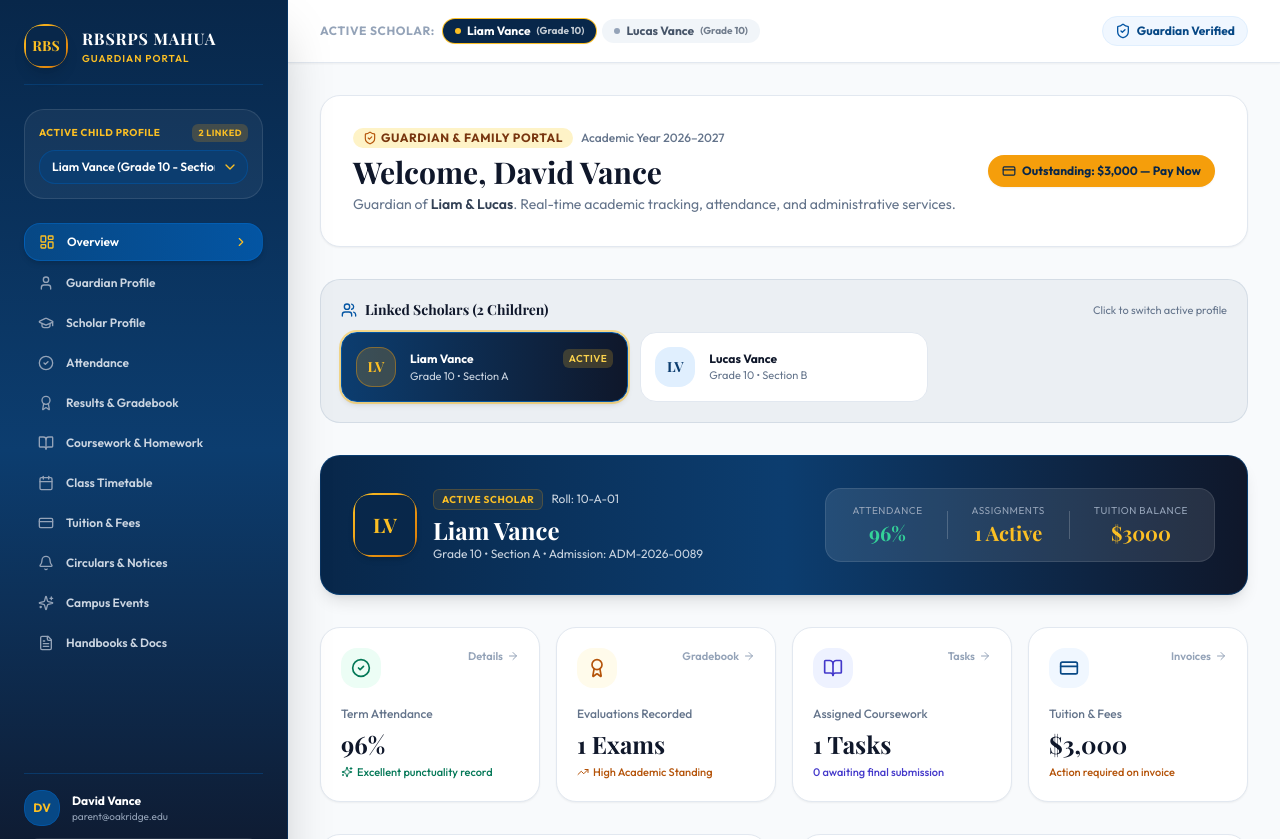
Scenario: Phase 13 — Parent Portal Frontend Test Suite › allows switching between multiple children and updates the active scholar profile
Expected: the heading with test id "selected-child-name" reads "Liam Vance", [433,514,560,546]
// Switch to second child Lucas Vance
Click the button with test id "top-child-pill-stud-003" at x=681, y=31, box [602,19,760,43]
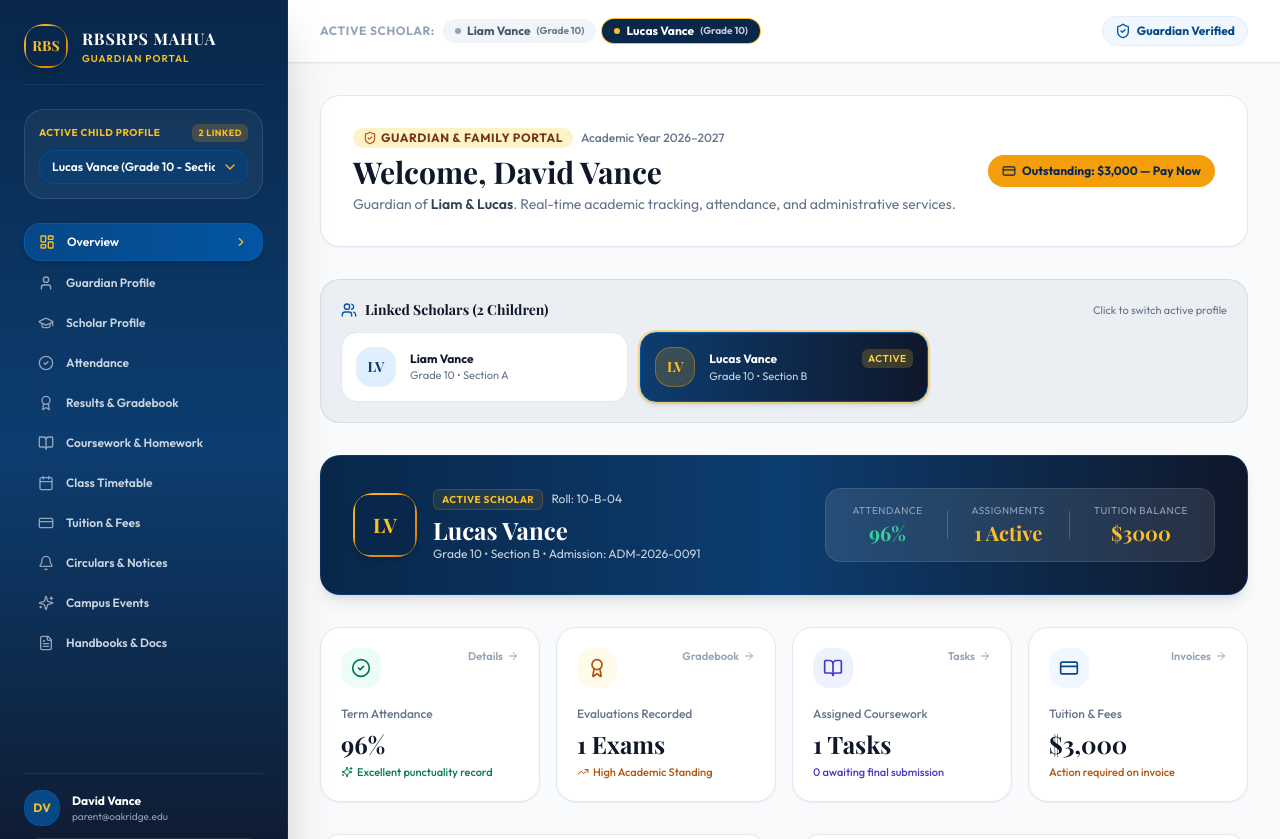
Result: the heading with test id "selected-child-name" reads "Lucas Vance" at [433,514,568,546]
